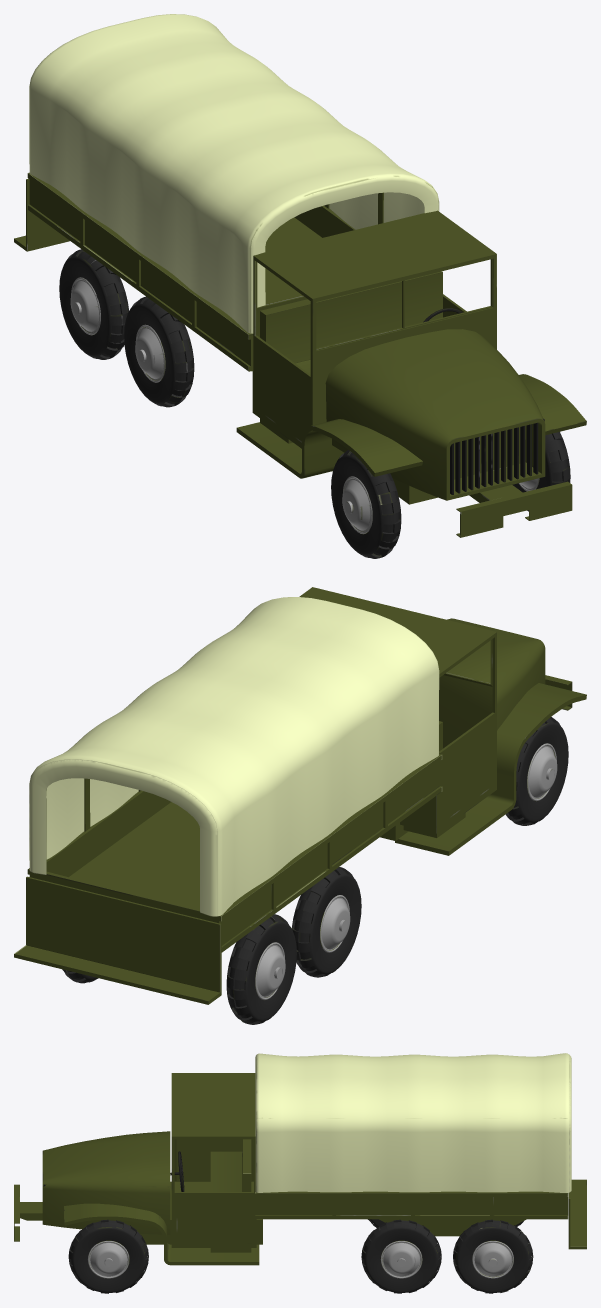
Rendered from truck.fbx.
3 renders of one model, top to bottom at view 1: azimuth 30°, elevation 25°; view 2: azimuth 150°, elevation 25°; view 3: azimuth 270°, elevation 25°, orthographic. The views are drawn at different scales.
Parts seen in each view (by area): view 1: Cube.001; view 2: Cube.001; view 3: Cube.001.
Part boxes in pixels (x1=…): Cube.001: x1=14, y1=14, x2=586, y2=558; Cube.001: x1=14, y1=587, x2=586, y2=1024; Cube.001: x1=14, y1=1053, x2=586, y2=1293.
Size of the model in its own units: 789 by 976 by 2610.
Materials: 1 (1 with a texture image).
